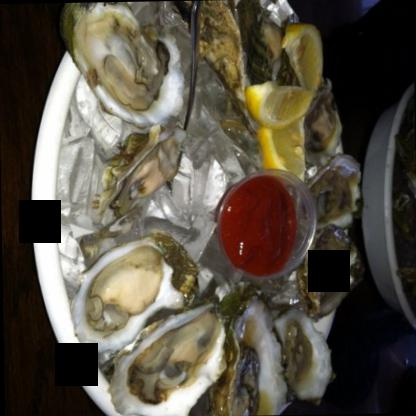oyster: (67, 233, 207, 355), (107, 299, 235, 415), (59, 1, 179, 122), (228, 304, 290, 414)
